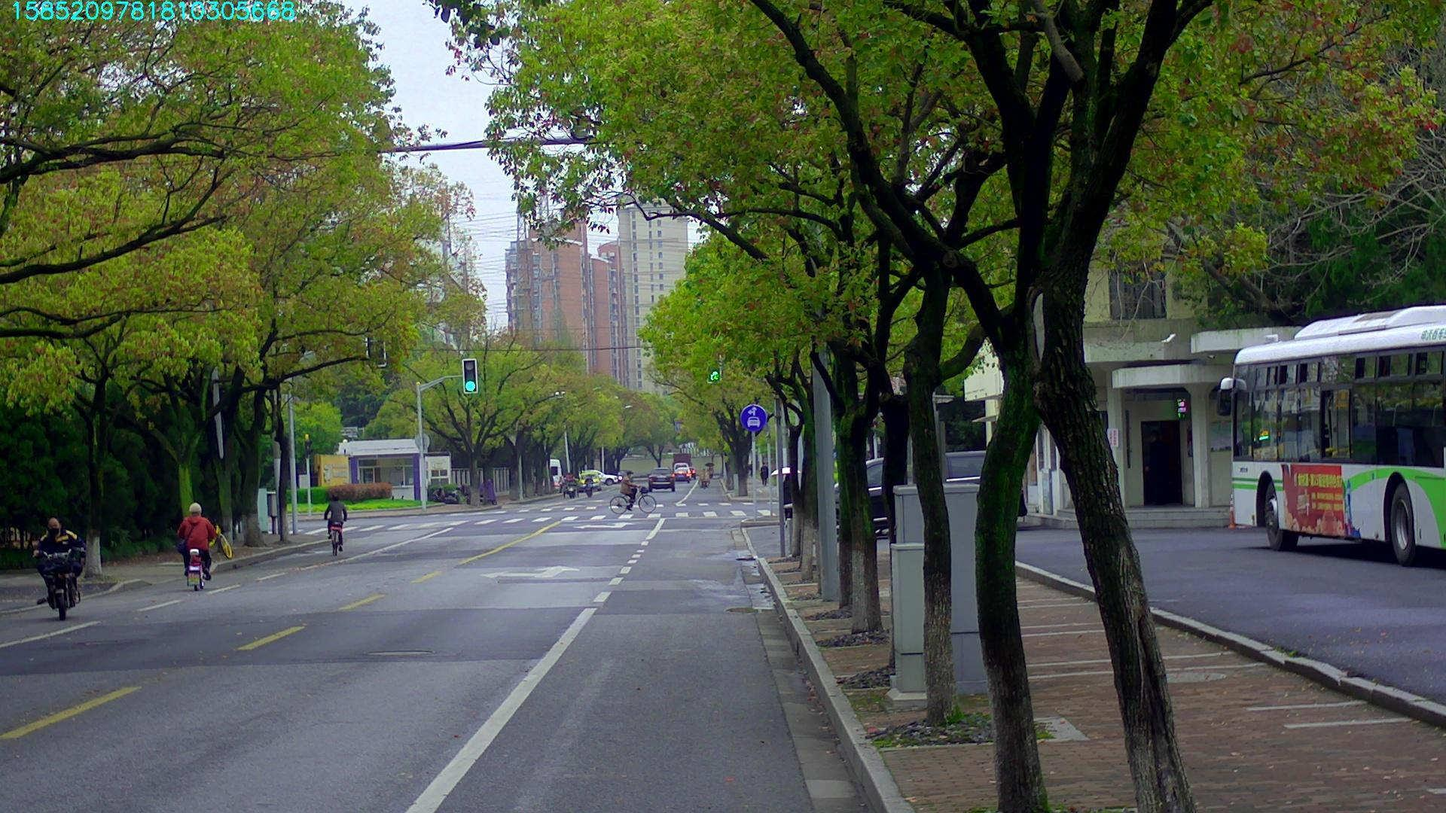green: (463, 359, 476, 392), (707, 369, 720, 382)
